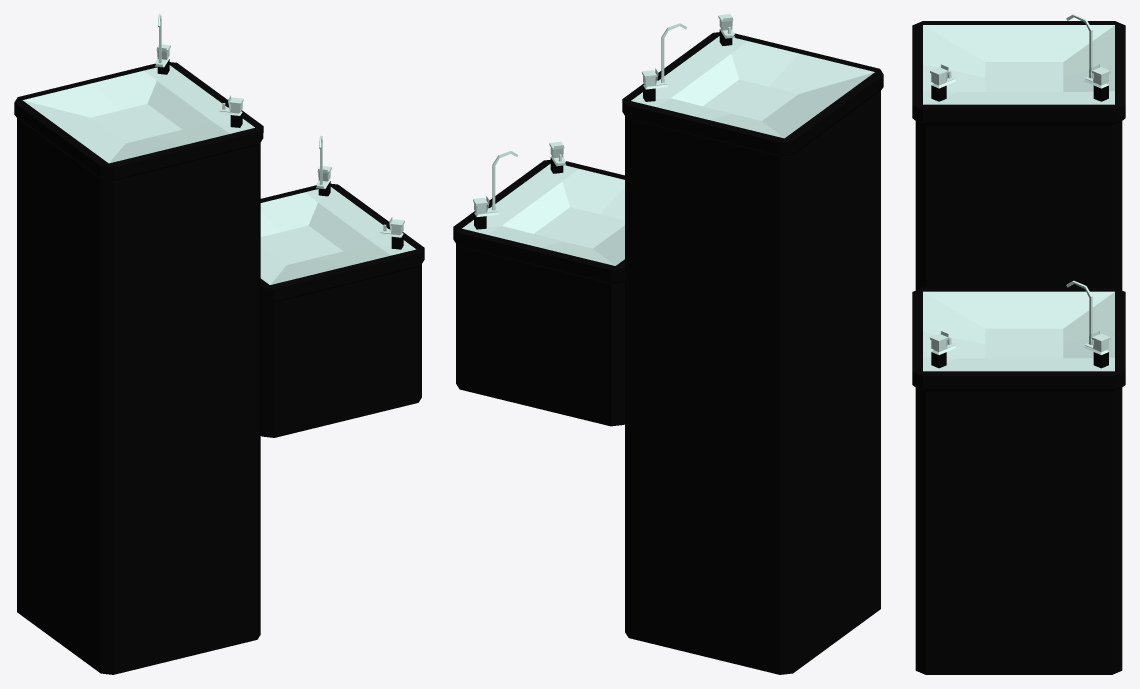
The model's file is bebedouro.fbx.
3 views of the same model, side by side, from view 1: azimuth 30°, elevation 25°; view 2: azimuth 150°, elevation 25°; view 3: azimuth 270°, elevation 25° (orthographic). The views are drawn at different scales.
Parts seen in each view (by area): view 1: bebedouro; view 2: bebedouro; view 3: bebedouro.
Part boxes in pixels (<box>): bebedouro: <box>14,14,424,674</box>; bebedouro: <box>453,14,883,674</box>; bebedouro: <box>912,14,1125,674</box>.
Size of the model in its own units: 407 by 692 by 209.
1 material, 1 textured.
